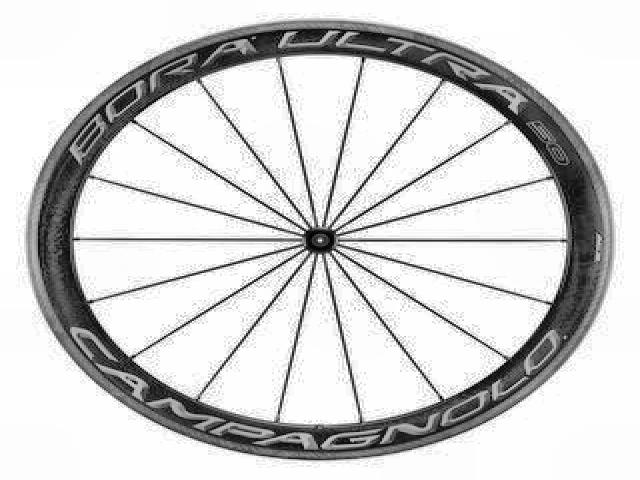wheel: (21, 15, 620, 464)
